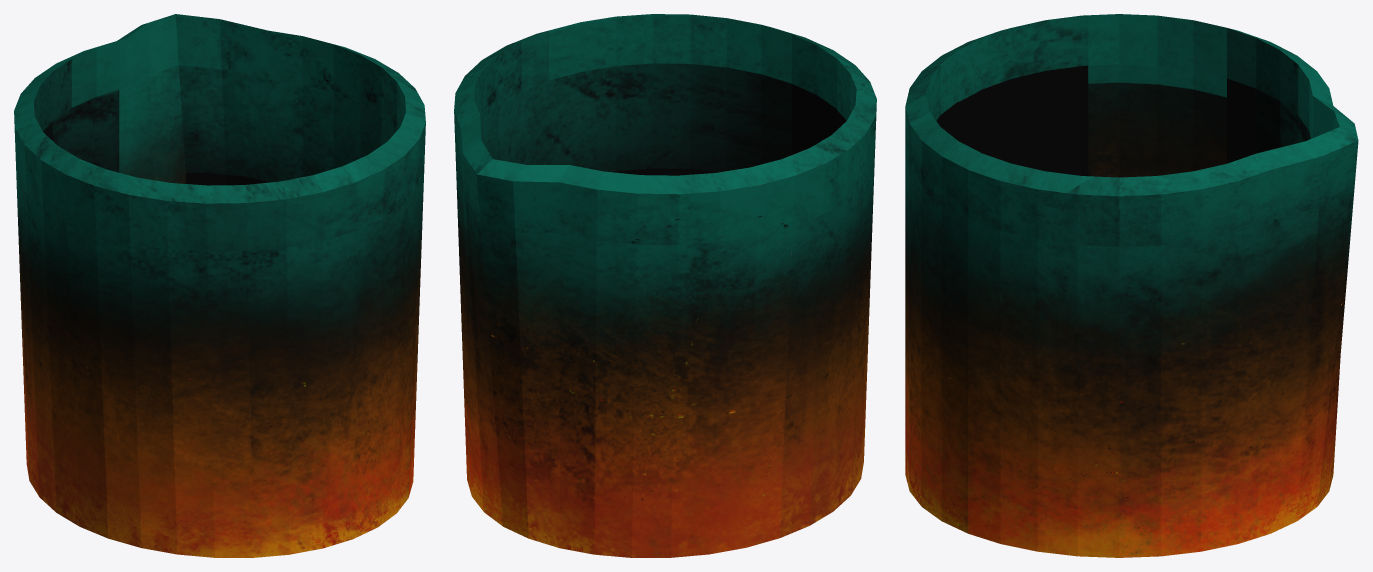
Rendered from balde malvado.fbx.
3 views of the same model, side by side, from view 1: azimuth 30°, elevation 25°; view 2: azimuth 150°, elevation 25°; view 3: azimuth 270°, elevation 25° (orthographic). The views are drawn at different scales.
Visible parts, largest first — view 1: Balde_Malvado; view 2: Balde_Malvado; view 3: Balde_Malvado.
Boxes of the visible parts, box(x1,y1,x2,y2) form: Balde_Malvado: box(14, 14, 425, 557); Balde_Malvado: box(454, 14, 876, 557); Balde_Malvado: box(905, 14, 1358, 557).
Bounding box in the file's own units: 200 × 196 × 212.
1 material, 1 textured.
